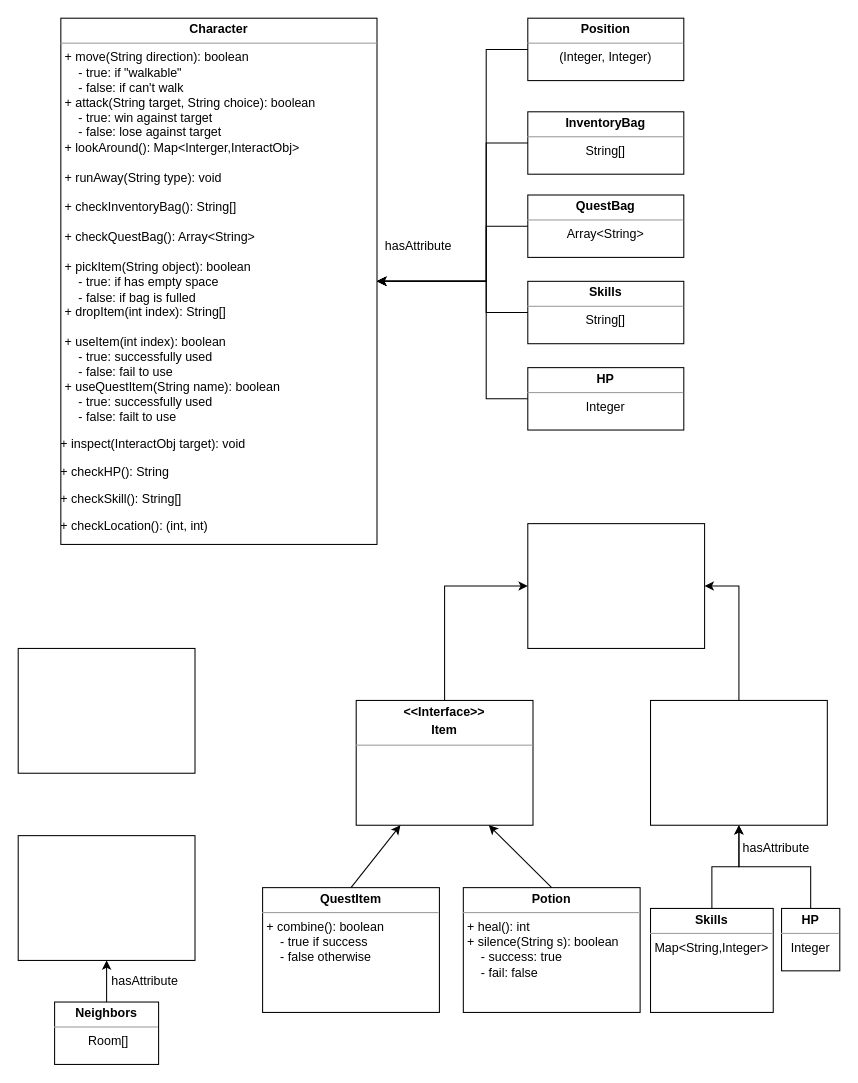
This 858x1083 diagram has some shape labels left out. Each missing label, with the box of its shape:
<<Abstract>> InteractObj + getInfo(): void: (527, 523, 705, 648)
FloorMap + getSize(): (int,int): (17, 647, 195, 773)
Guardian + getHP(): int + getAttackInfo(): void: (649, 699, 827, 825)
Room + roomInfo(): void + neighborInfo(): void: (17, 835, 195, 960)
